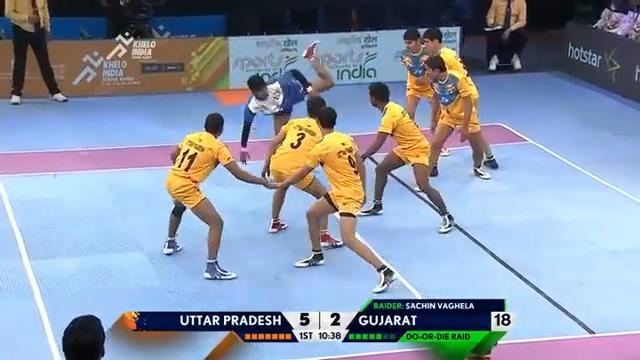Player: (268, 105, 398, 293), (239, 40, 342, 248), (161, 111, 280, 280), (356, 80, 455, 233), (419, 28, 498, 179), (4, 0, 68, 104), (399, 27, 450, 156)
Raider: (239, 40, 334, 148)
referee: (483, 0, 528, 71), (101, 0, 157, 40)
